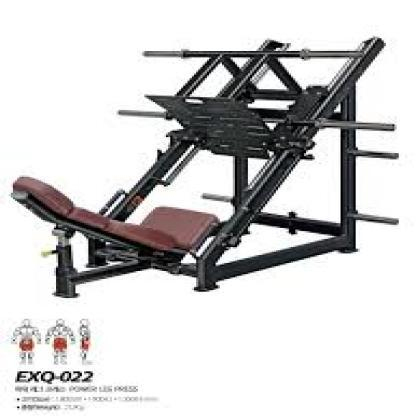leg press: (11, 33, 410, 299)
